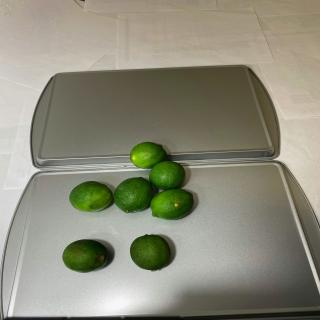Apple: (62, 239, 108, 273)
Lemon: (130, 234, 171, 271), (113, 177, 153, 213), (150, 188, 194, 220), (69, 180, 113, 212), (149, 160, 186, 190), (130, 142, 167, 169)
